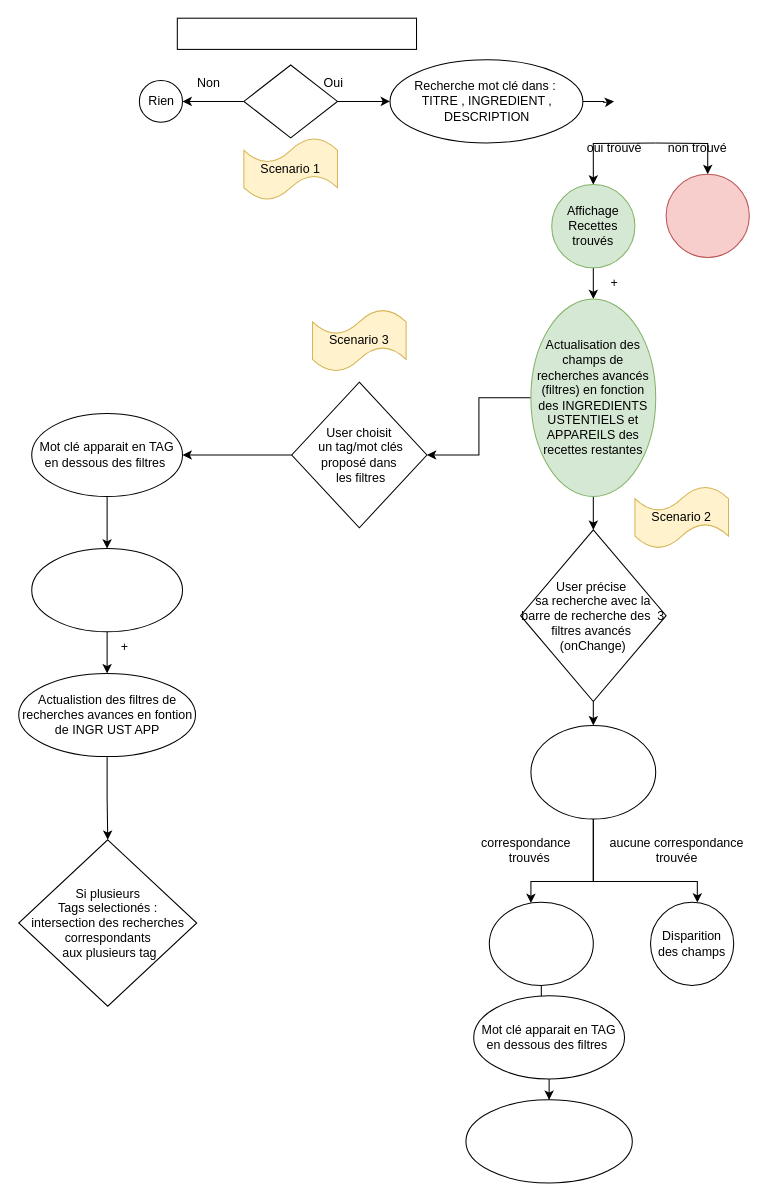
The diagram is 772 pixels wide and 1201 high, and some of its shapes have lost their labels. Each missing label, with the box of its shape:
+3 caracteres: (243, 64, 337, 138)
Actualistation des champs des autres filtres en fonction du filtre recherché: (465, 1099, 632, 1183)
Affichage aucune recette...: (665, 173, 749, 257)
Affichage des champs correspondants: (488, 901, 593, 985)
Affichage des recettes trouvées en fonction du Tag: (31, 548, 183, 632)
Diagramme moteur de recherche: (176, 17, 417, 49)
recherche mots clés dans les champs restants des filtres: (530, 724, 656, 819)
